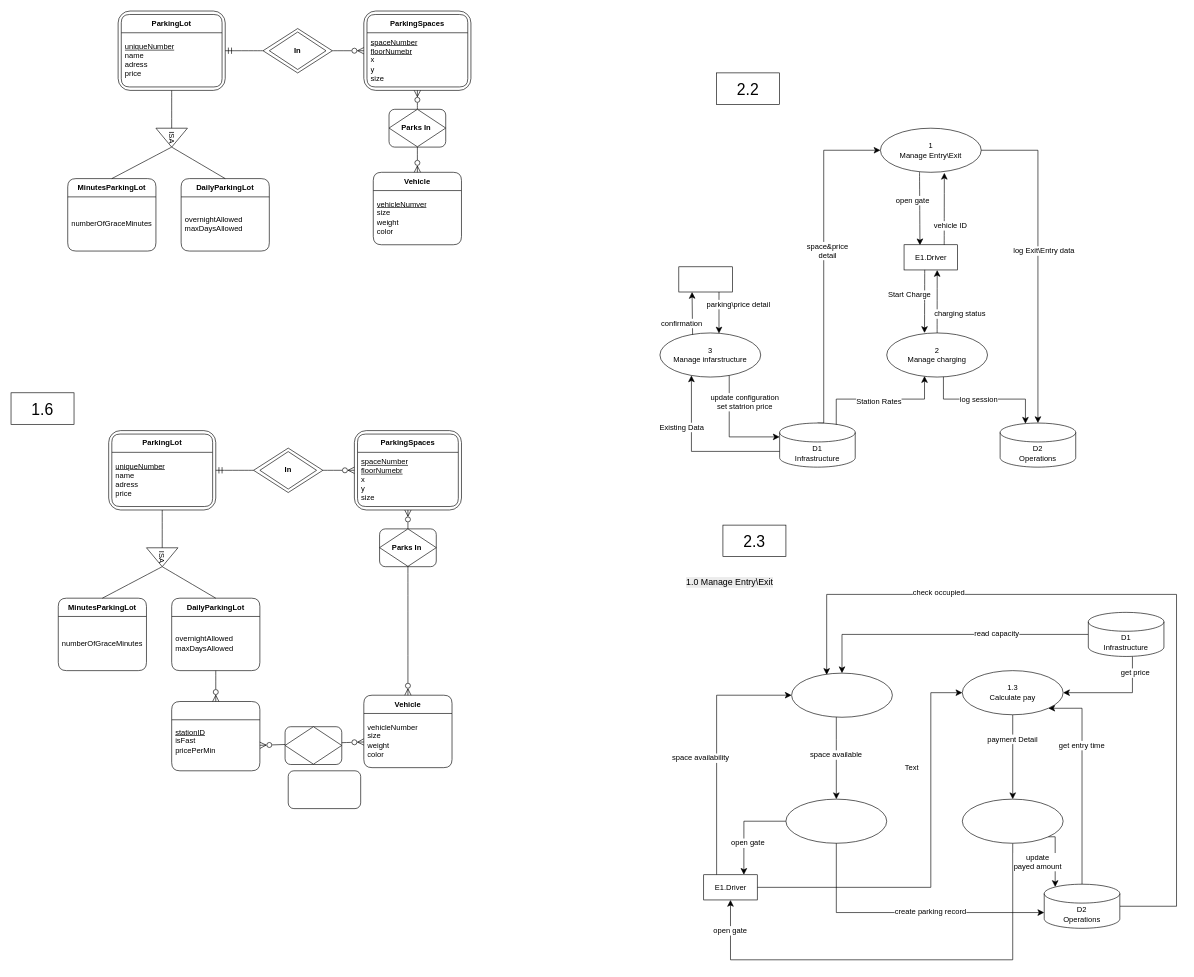
This 1194x977 diagram has some shape labels left out. The box of each missing label's shape, as (x1, y1, x2, y2) in pixels:
1.1 Check availability: (791, 673, 892, 717)
1.2 Register entry: (785, 799, 887, 843)
1.4 Register exit: (962, 799, 1063, 843)
Charges: (284, 726, 342, 764)
ChargingStation: (171, 701, 260, 771)
E2.Manager: (678, 266, 732, 292)
startTime endTime JoulesConsumed: (288, 770, 361, 809)
